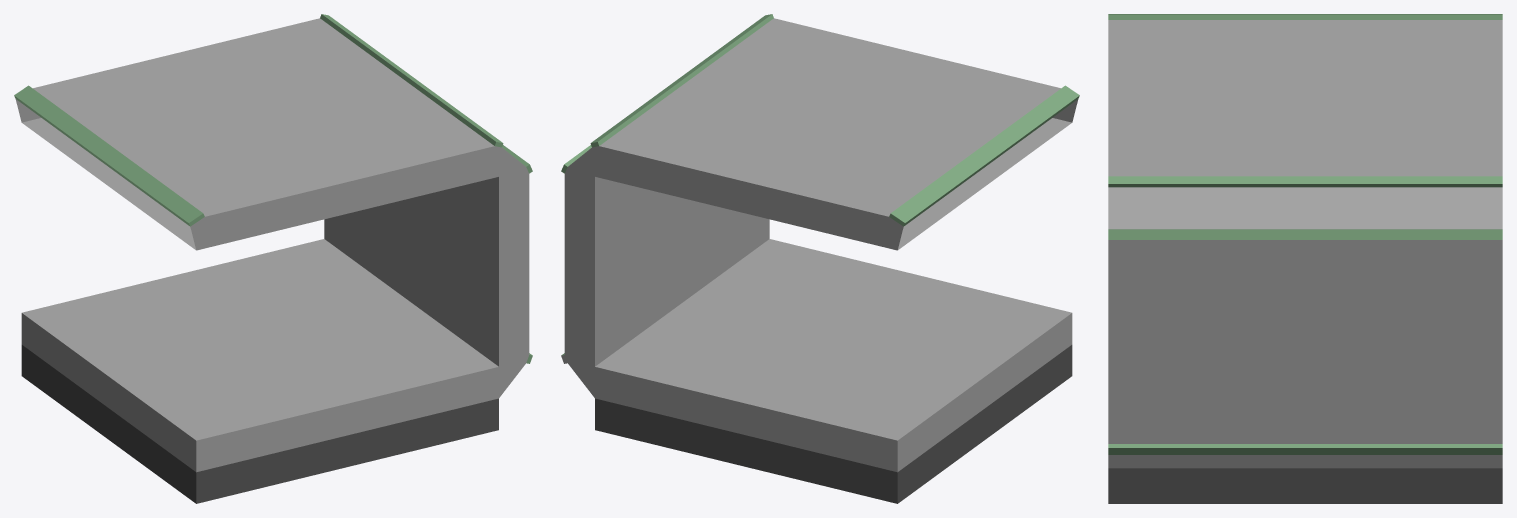
The model's file is ExteriorBase_T.fbx.
The picture shows the model from 3 angles, left to right: view 1: azimuth 30°, elevation 25°; view 2: azimuth 150°, elevation 25°; view 3: azimuth 270°, elevation 25°; orthographic projection. The views are drawn at different scales.
Parts seen in each view (by area): view 1: ExteriorBase_T; view 2: ExteriorBase_T; view 3: ExteriorBase_T.
Boxes of the visible parts, x1=… form: ExteriorBase_T: x1=14, y1=14, x2=532, y2=503; ExteriorBase_T: x1=561, y1=14, x2=1079, y2=503; ExteriorBase_T: x1=1108, y1=14, x2=1502, y2=503.
Size of the model in its own units: 1137 by 912 by 1000.
